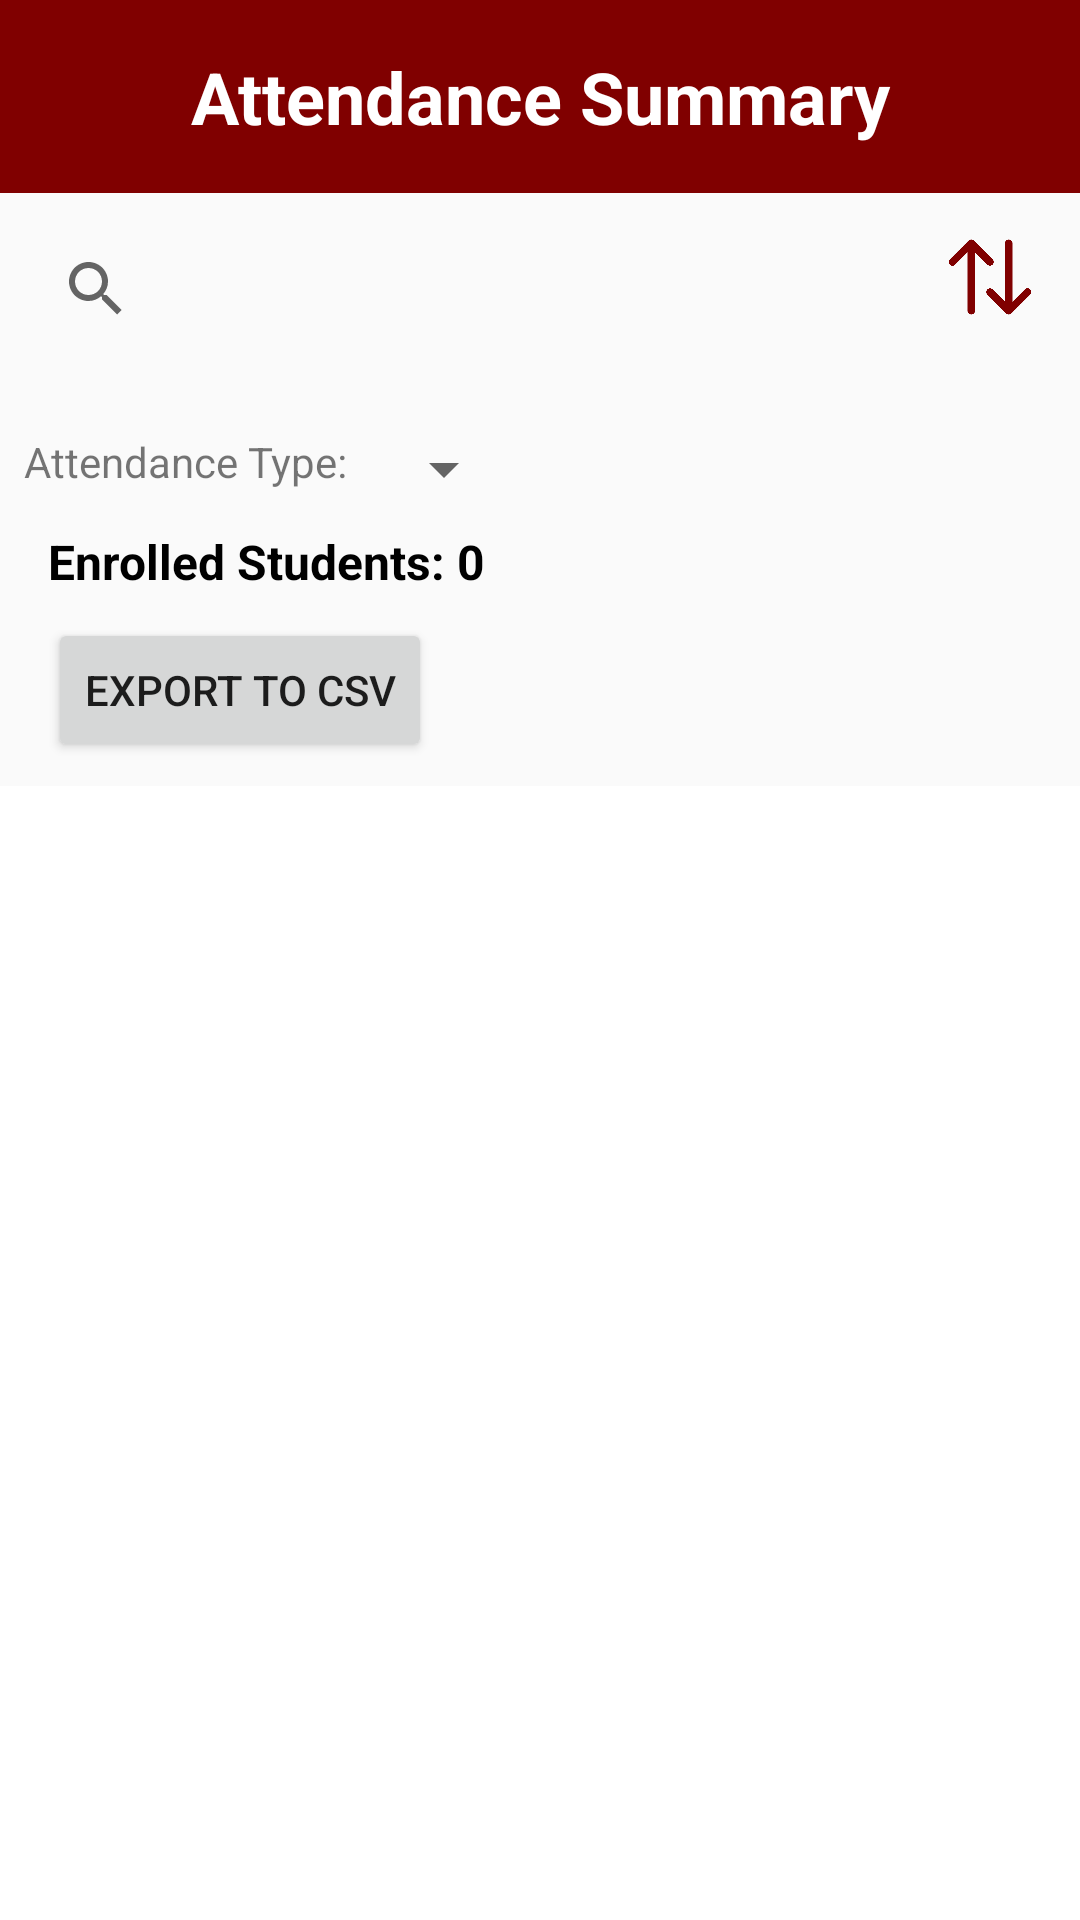

Named icons in this screenshot (1080 x 1920) and their centers, point (x, y):
Sort: point (990, 277)
